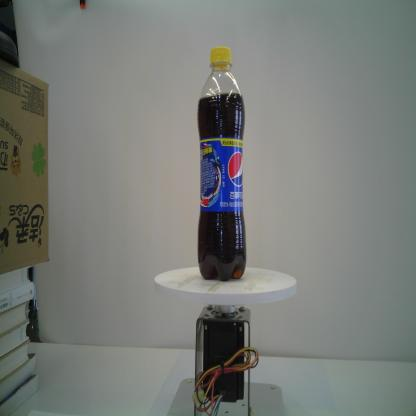Drink: (196, 44, 248, 284)
